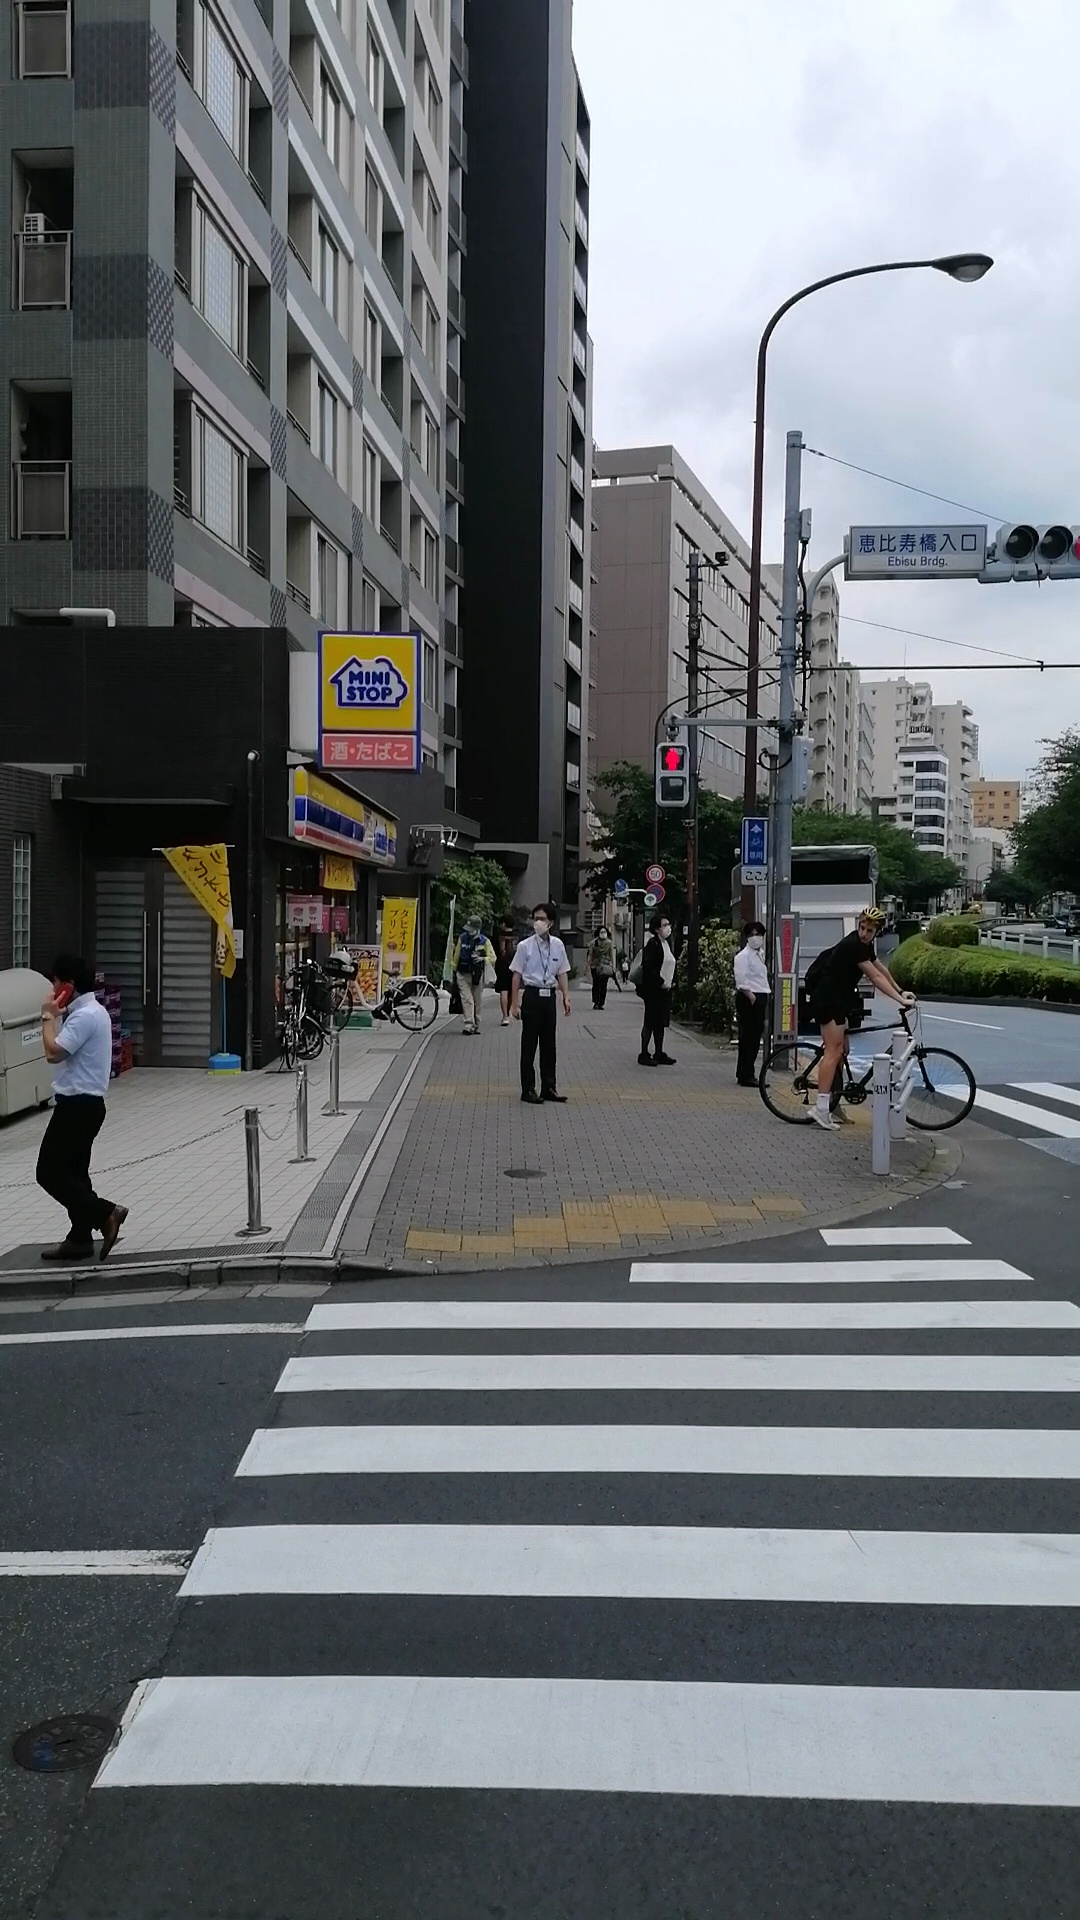red: (653, 741, 688, 806)
